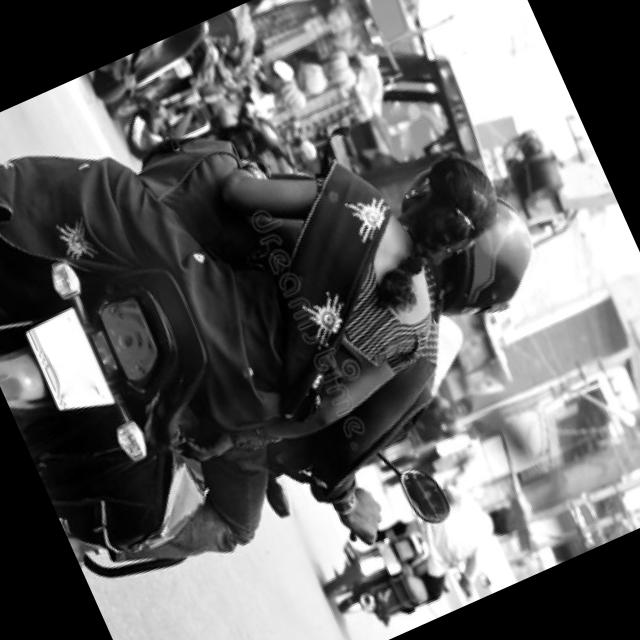bareface: (472, 484, 541, 560)
